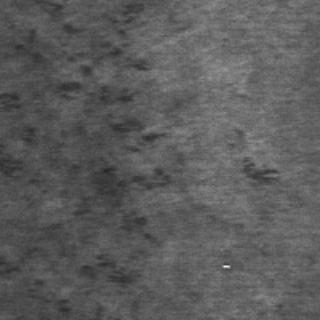rolled pit: (15, 0, 157, 140), (27, 163, 166, 297)
